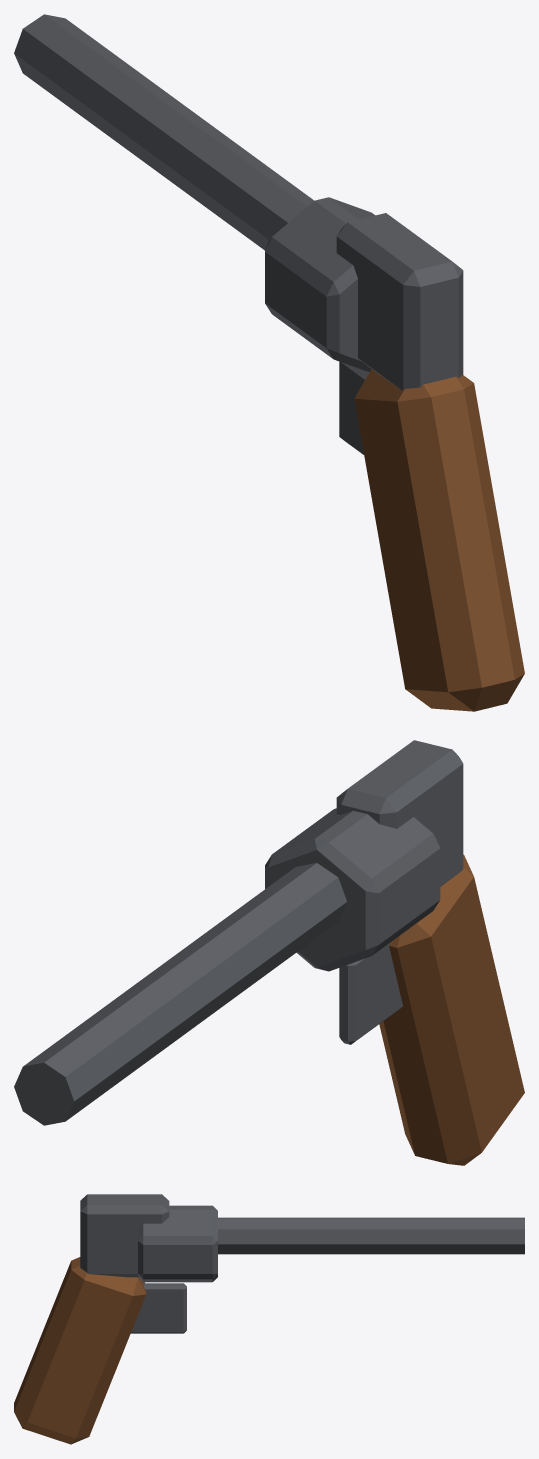
Rendered from revolver.glb.
3 renders of one model, top to bottom at view 1: azimuth 30°, elevation 25°; view 2: azimuth 150°, elevation 25°; view 3: azimuth 270°, elevation 25°, orthographic. The views are drawn at different scales.
Visible parts, largest first — view 1: revolver; view 2: revolver; view 3: revolver.
Boxes of the visible parts, bbox=[...] form: revolver: bbox=[14, 14, 524, 711]; revolver: bbox=[14, 740, 524, 1165]; revolver: bbox=[14, 1194, 524, 1444].
Bounding box in the file's own units: 0.0416 × 0.1491 × 0.2872.
